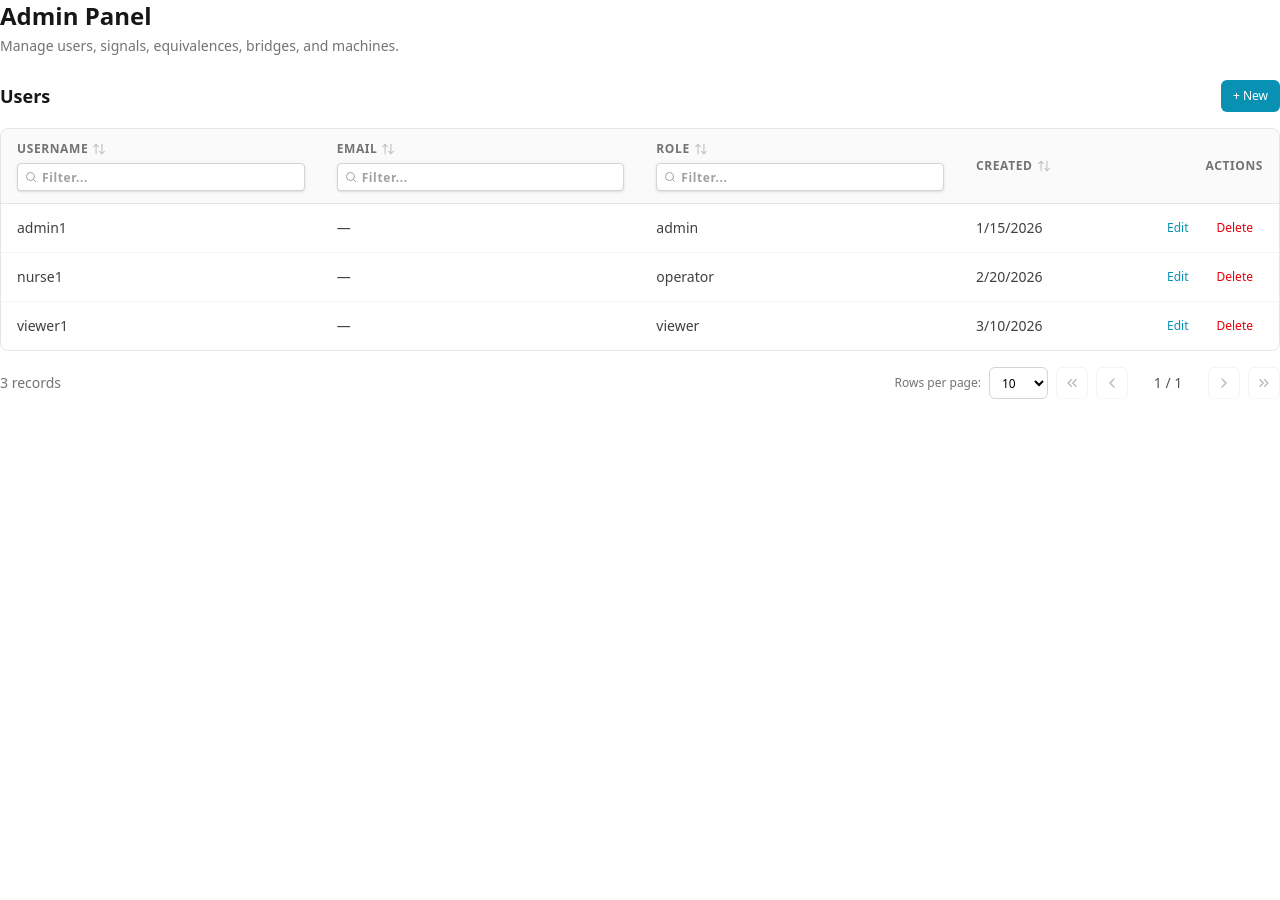
it: AdminPanelContainer › Users section › opens create form on +New button
Expected: the text "admin1" is shown, [1,204,321,252]
Click the button "+ New".
click(1250, 96)  # box [1221,80,1279,112]
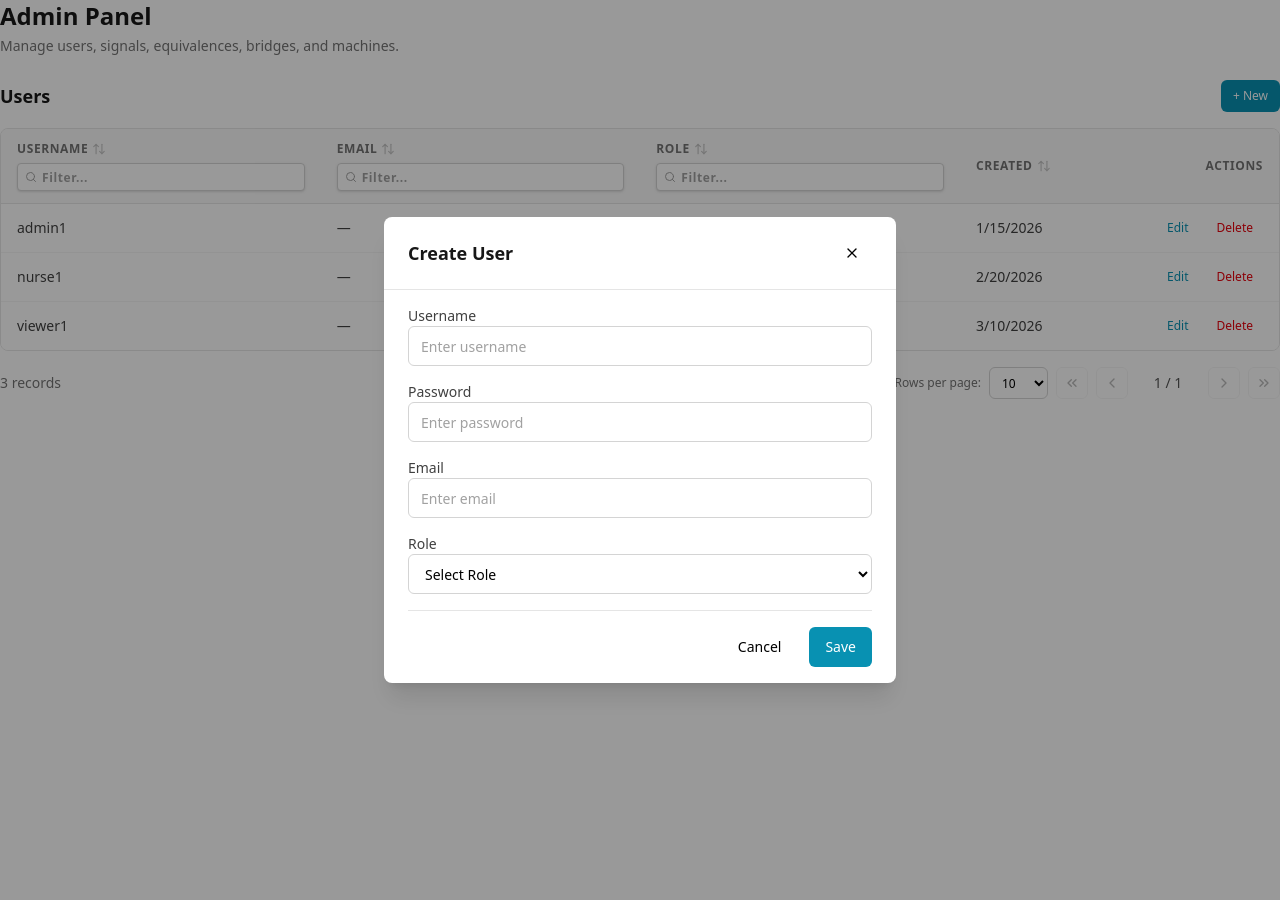
Now the heading "Create User" is shown, box [408,239,513,267]
Now the field labelled "Username" is shown, box [408,326,872,366]
Now the password field labelled "Password" is shown, box [408,402,872,442]
